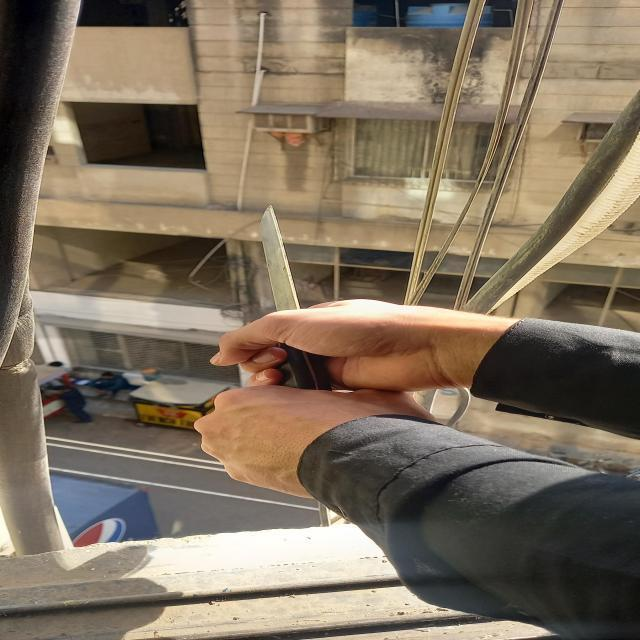Knife: (231, 203, 347, 401)
